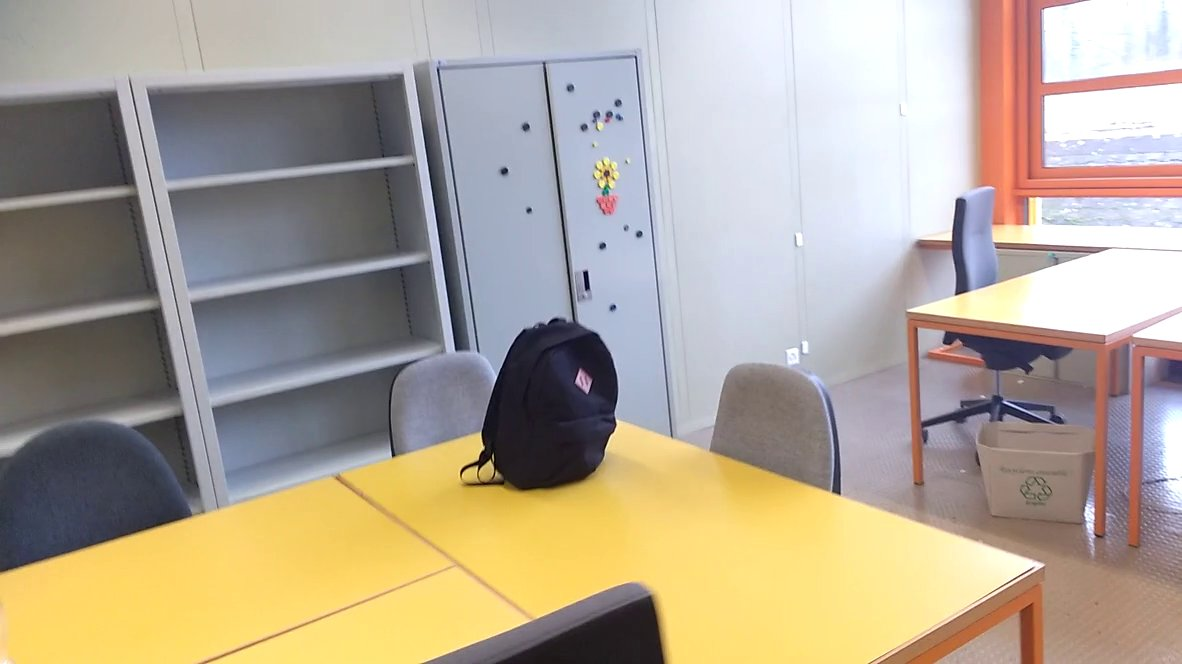bag: (457, 314, 622, 496)
box: (969, 412, 1111, 538)
chair: (924, 180, 1074, 466), (1, 414, 215, 565), (698, 351, 870, 512), (382, 347, 528, 462)
